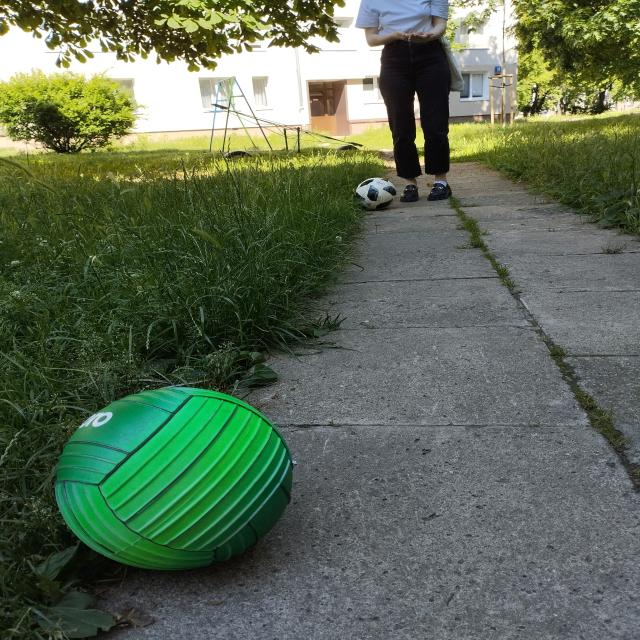nozna: (356, 177, 397, 210)
zielona: (55, 387, 293, 571)
